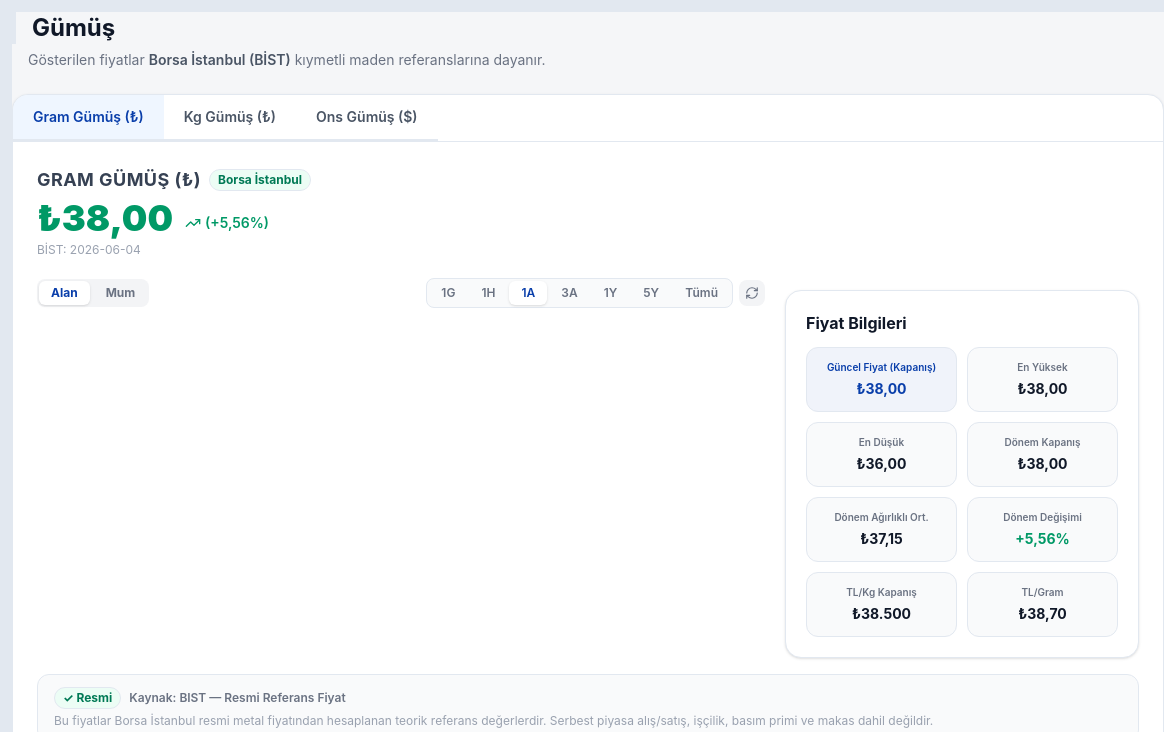
Test: SilverPage (Gümüş) — jsdom + testing-library › mum (candle) moduna geçince grafik data-mode=candle olur ve sentetik açılış uyarısı çıkar
Toolbar'da "Mum" butonu (canCandle && kısa range).
What coordinates should you click on to do the following:
click the button "Mum"
I would click on:
 (120, 293)
Its box is [94,281,147,305].
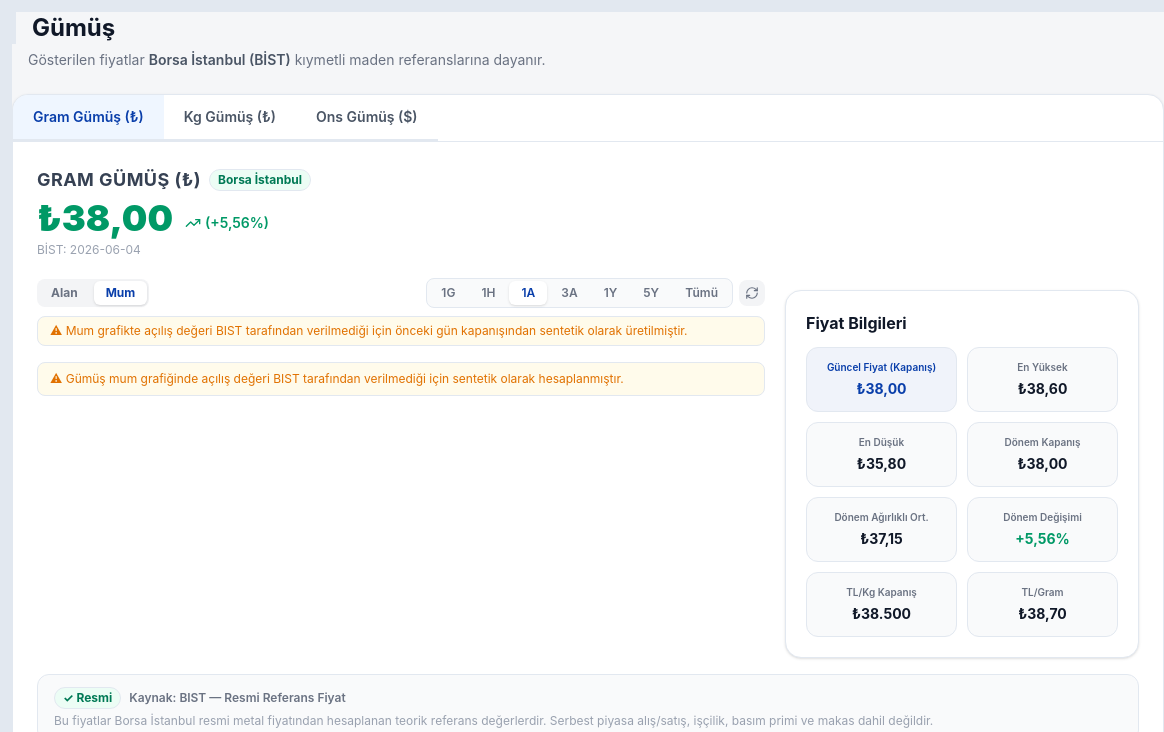
expect the text "Gümüş mum grafiğinde açılış değeri BIST tarafından verilmediği için" is shown: met, box [50,371,624,386]
